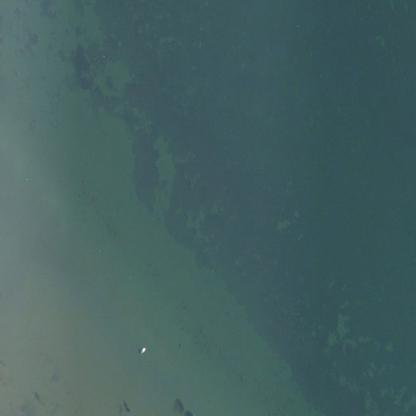ship: (121, 329, 129, 337)
